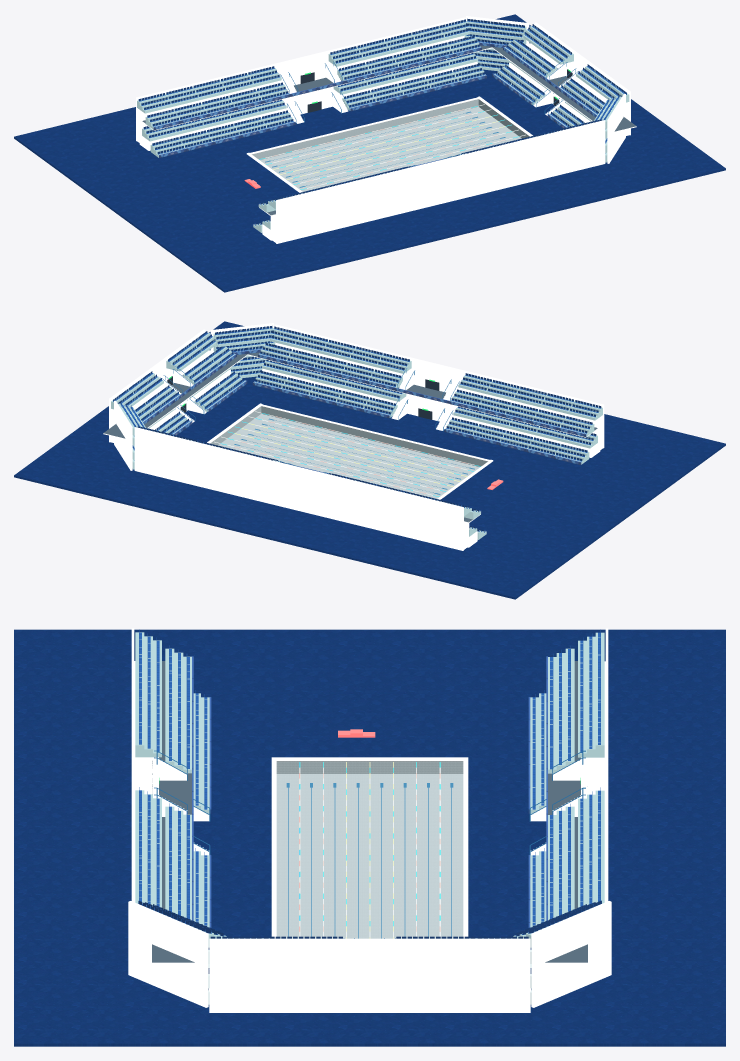
File: LowPolyPool.glb
The picture shows the model from 3 angles, top to bottom: view 1: azimuth 30°, elevation 25°; view 2: azimuth 150°, elevation 25°; view 3: azimuth 270°, elevation 25°; orthographic projection. The views are drawn at different scales.
Parts seen in each view (by area): view 1: Venue_Rectangular_Ground, StandStructure_Merged, pool_floor, BleacherBatch_T4_N, BleacherBatch_T3_N, BleacherBatch_T1_N, OlympicPanels_Merged, BleacherBatch_T2_N, pool_inner_wall_batch, CornerStands_Merged, BleacherAccess_Architecture_Merged, lane_float_rope_batch (+6 smaller); view 2: Venue_Rectangular_Ground, StandStructure_Merged, pool_floor, BleacherBatch_T4_S, BleacherBatch_T3_S, BleacherBatch_T1_S, OlympicPanels_Merged, BleacherBatch_T2_S, pool_inner_wall_batch, CornerStands_Merged, BleacherAccess_Architecture_Merged, lane_float_rope_batch (+6 smaller); view 3: Venue_Rectangular_Ground, StandStructure_Merged, pool_floor, BleacherBatch_T4_S, BleacherBatch_T4_N, BleacherBatch_T3_S, BleacherBatch_T3_N, BleacherBatch_T1_S, BleacherBatch_T1_N, pool_edge_batch, pool_inner_wall_batch, BleacherAccess_Architecture_Merged (+6 smaller).
Boxes of the visible parts, x1,y1,x2,y2 form: Venue_Rectangular_Ground: (14,14,725,292); StandStructure_Merged: (136,16,636,243); pool_floor: (260,107,521,191); BleacherBatch_T4_N: (137,19,471,113); BleacherBatch_T3_N: (145,35,480,129); BleacherBatch_T1_N: (150,63,485,157); OlympicPanels_Merged: (153,42,596,226); BleacherBatch_T2_N: (142,53,478,141); pool_inner_wall_batch: (252,99,529,159); CornerStands_Merged: (464,18,621,162); BleacherAccess_Architecture_Merged: (281,63,577,123); lane_float_rope_batch: (259,104,525,189); Venue_Rectangular_Ground: (14,321,725,599); StandStructure_Merged: (103,323,604,550); pool_floor: (218,414,479,498); BleacherBatch_T4_S: (268,326,602,420); BleacherBatch_T3_S: (259,343,594,436); BleacherBatch_T1_S: (253,371,589,464); OlympicPanels_Merged: (143,349,586,533); BleacherBatch_T2_S: (262,360,597,448); pool_inner_wall_batch: (210,406,487,466); CornerStands_Merged: (118,326,275,469); BleacherAccess_Architecture_Merged: (162,370,458,430); lane_float_rope_batch: (214,411,480,496); Venue_Rectangular_Ground: (14,629,725,1046); StandStructure_Merged: (128,628,611,1012); pool_floor: (276,774,463,938); BleacherBatch_T4_S: (135,629,161,907); BleacherBatch_T4_N: (578,629,604,907); BleacherBatch_T3_S: (165,645,191,920); BleacherBatch_T3_N: (548,646,574,920); BleacherBatch_T1_S: (193,690,209,967); BleacherBatch_T1_N: (530,690,546,967); pool_edge_batch: (271,757,468,938); pool_inner_wall_batch: (276,761,463,773); BleacherAccess_Architecture_Merged: (152,757,587,855).
Size of the model in its own units: 110 by 10.82 by 80.
Materials: 18 (4 with a texture image).
